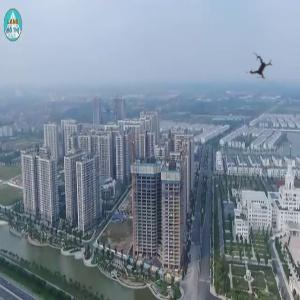drone: (235, 43, 286, 94)
